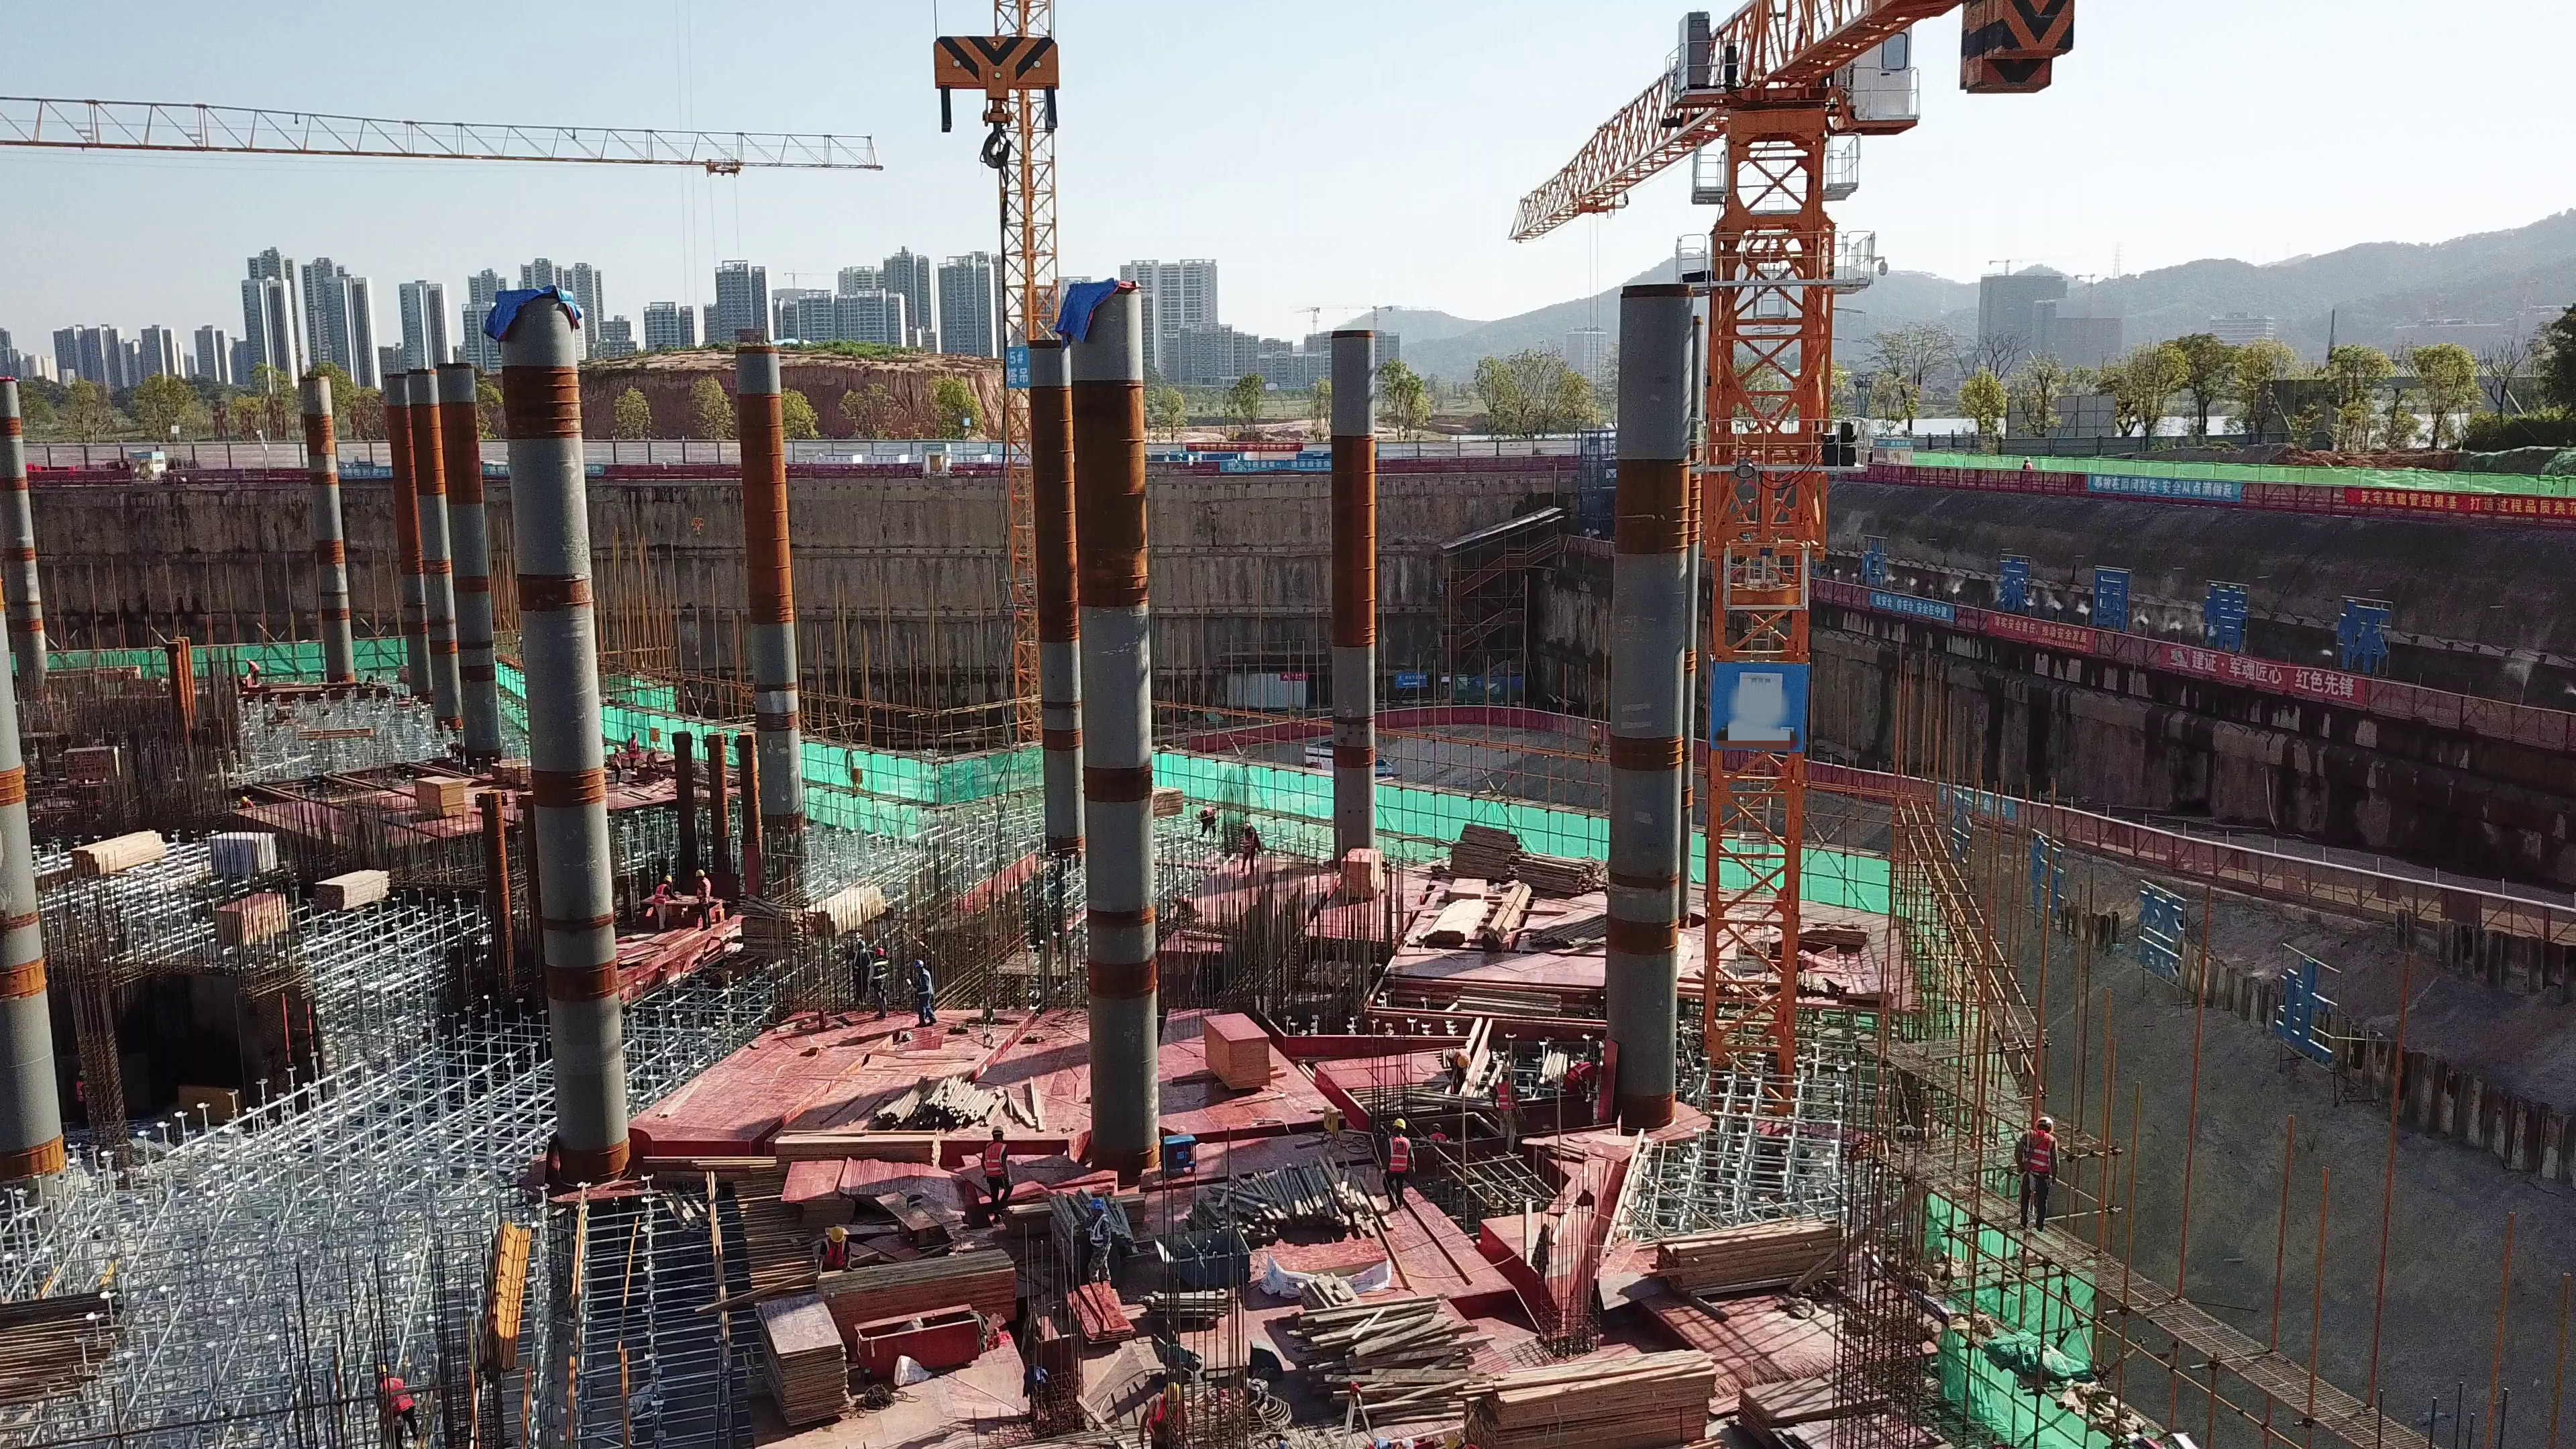board: (752, 1287, 855, 1430), (1195, 1010, 1272, 1101)
helmet: (826, 1225, 847, 1248), (1391, 1112, 1408, 1131), (990, 1123, 1004, 1136), (1458, 1057, 1468, 1073)
hook: (918, 25, 1066, 173)
person: (2014, 1113, 2059, 1239), (370, 1358, 419, 1442), (853, 930, 888, 1021), (1385, 1119, 1413, 1210), (908, 961, 938, 1029)
vest: (1389, 1139, 1411, 1186)
wood: (1269, 1293, 1497, 1420), (1463, 1354, 1741, 1439), (822, 1248, 1025, 1332), (1663, 1210, 1853, 1297), (68, 823, 179, 874)
